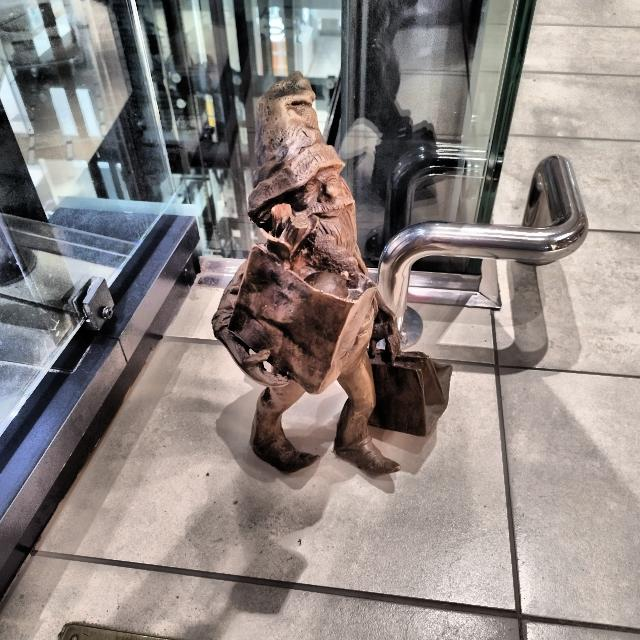Trendus: (212, 72, 451, 476)
